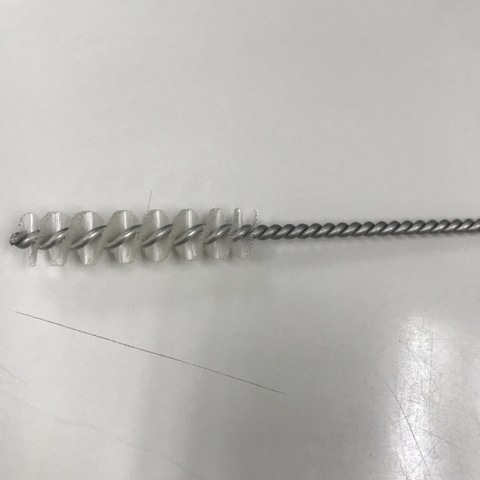Twist Brush-B: (5, 209, 479, 269)
